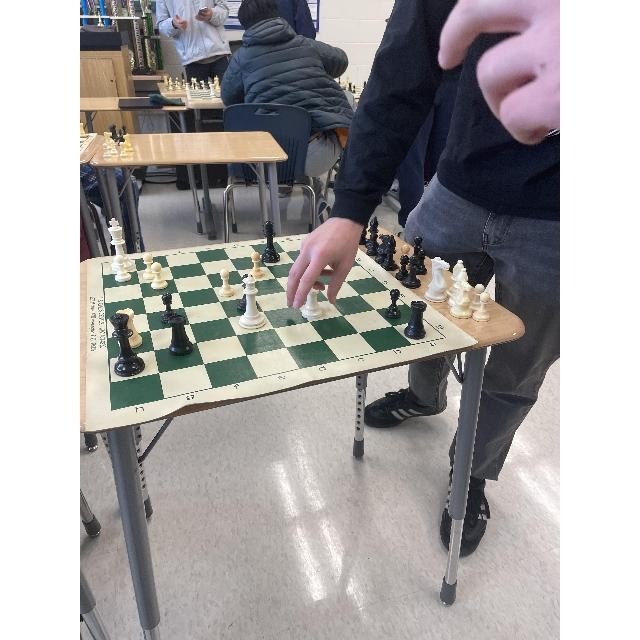black-bishop: (185, 50, 227, 89)
black-pawn: (170, 311, 192, 357), (408, 296, 427, 338), (263, 219, 281, 262), (162, 290, 180, 320), (388, 289, 403, 317)
black-rook: (109, 307, 144, 379), (133, 10, 165, 76), (410, 244, 430, 286)
white-bishop: (243, 258, 265, 330), (143, 255, 171, 287)
white-pawn: (219, 264, 233, 302)
